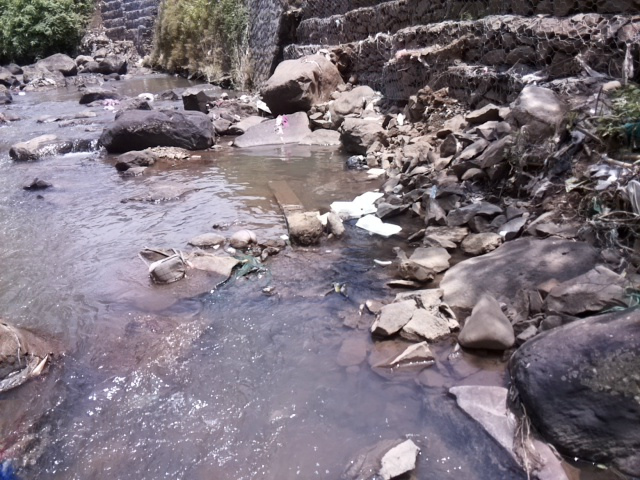Sampah_Plastik: (273, 112, 289, 137), (345, 153, 368, 168)
Sampah_Styrofoam: (326, 190, 386, 214), (353, 214, 404, 237)
